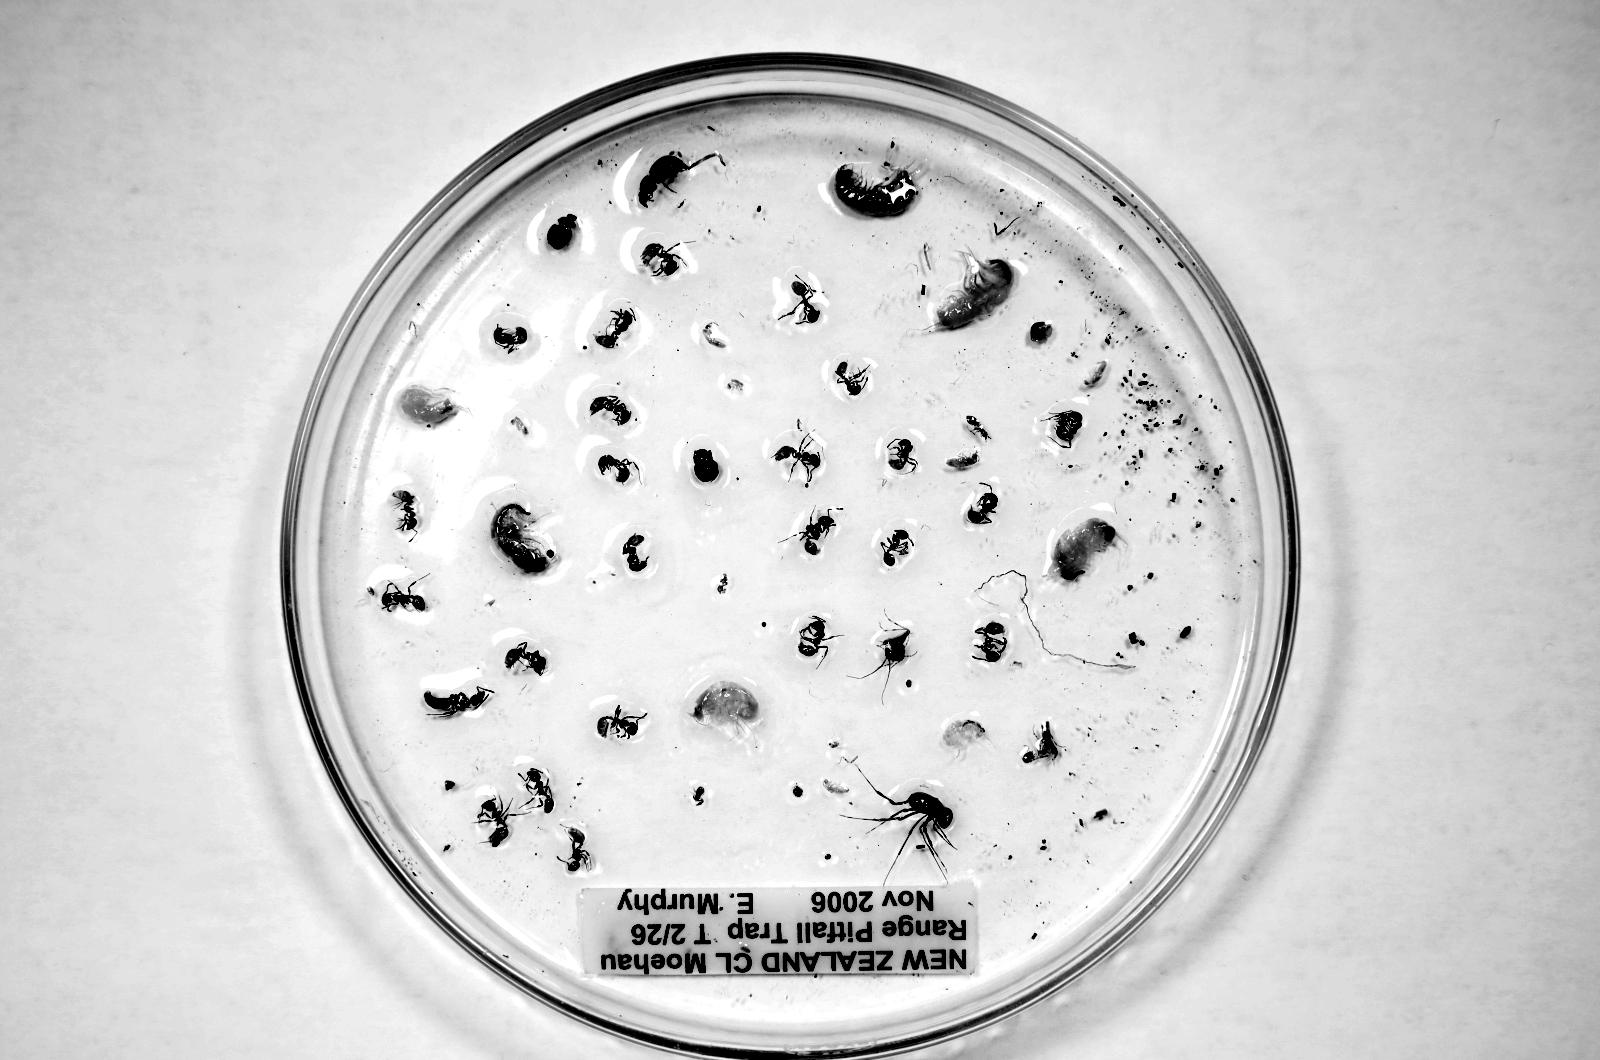amphipoda: (934, 252, 1015, 329), (491, 503, 555, 573), (834, 163, 916, 216), (1051, 517, 1116, 580), (692, 680, 758, 733), (400, 384, 456, 426), (942, 719, 985, 749)
coleoptera: (637, 151, 692, 206), (546, 213, 578, 250), (693, 448, 720, 483)
collembola: (965, 415, 990, 440), (702, 323, 727, 348), (1084, 360, 1107, 387), (947, 453, 978, 470), (823, 778, 850, 795)
formicidae: (772, 433, 823, 487), (777, 274, 821, 325), (423, 687, 494, 716), (595, 308, 636, 349), (597, 705, 647, 739), (478, 799, 512, 847), (799, 509, 835, 555), (798, 615, 835, 657), (520, 768, 553, 813), (965, 483, 999, 524), (505, 642, 546, 676), (381, 582, 427, 612), (642, 243, 682, 276), (974, 621, 1008, 661), (589, 395, 634, 425), (880, 529, 914, 567), (597, 454, 640, 484), (565, 827, 592, 872), (835, 361, 869, 395), (1051, 411, 1082, 448), (887, 438, 918, 473), (393, 490, 417, 532), (622, 534, 648, 573), (493, 325, 527, 354)
opiliones: (882, 791, 953, 860)
orthoptera: (880, 627, 909, 667)
pseudoscorpiones: (692, 786, 706, 806)
